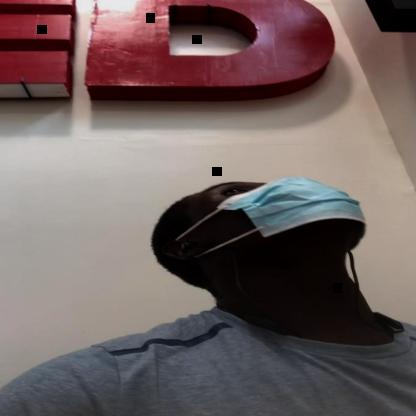mask: (184, 175, 367, 253)
